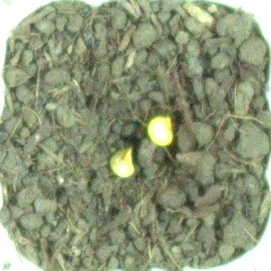chilli seed: (108, 146, 138, 179), (146, 115, 176, 147)
